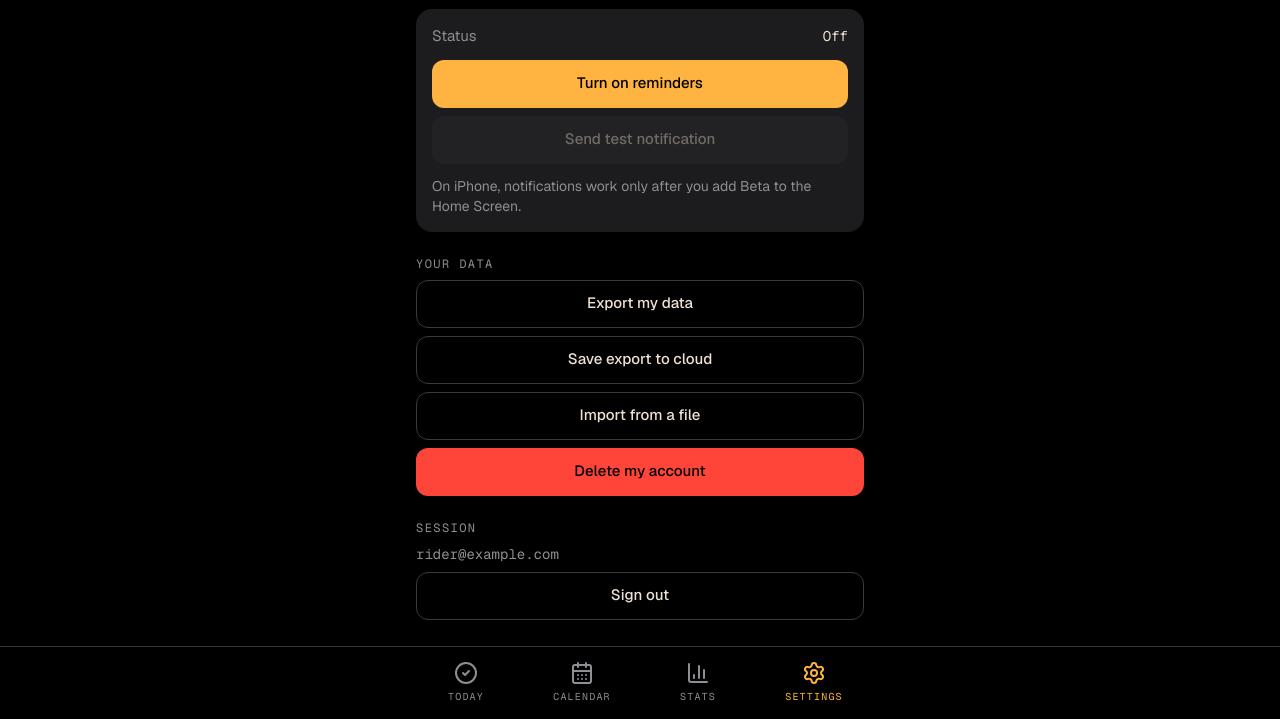
Test: Settings › cloud export › shows the download link and when it expires, in the account time zone
(page scrolled)
Click the 4th button named "Save export to cloud" at (640, 360), box x1=416 y1=336 x2=864 y2=384
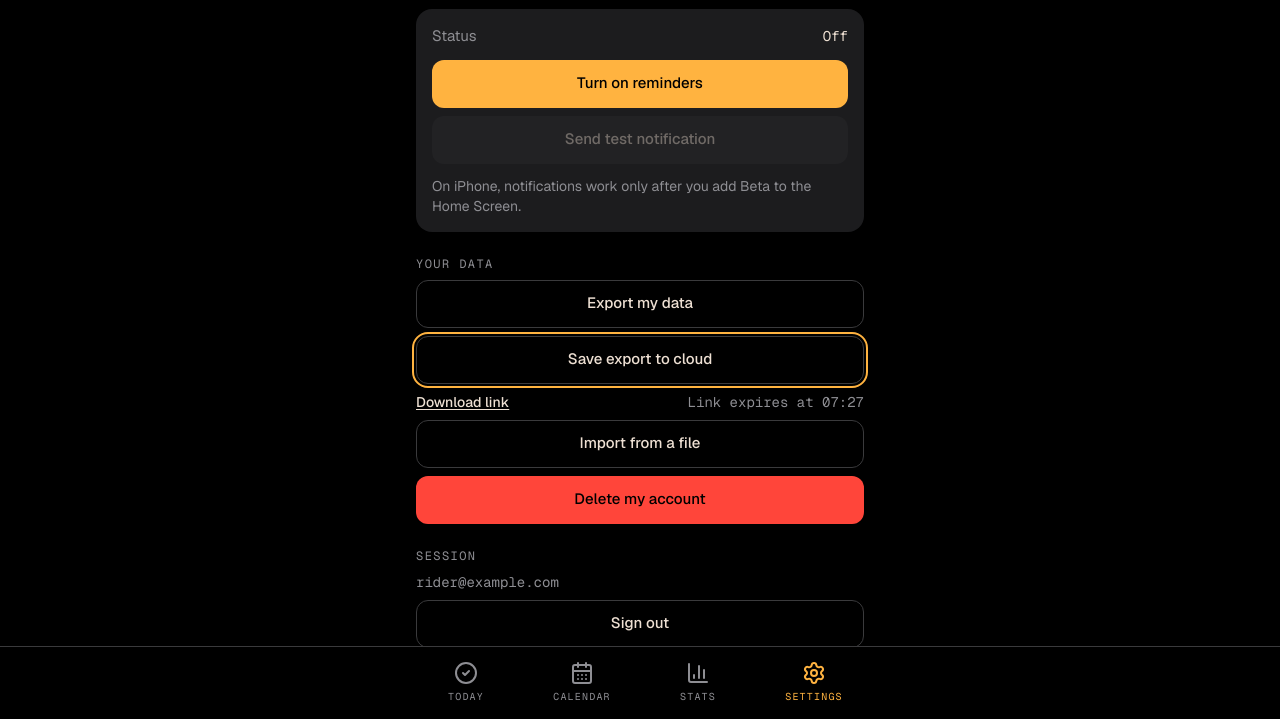
Check: the text "Link expires at 07:27" is shown, box x1=688 y1=392 x2=864 y2=412
